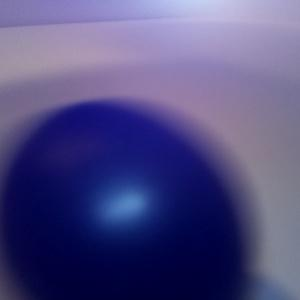dead_ball: (1, 98, 247, 300)
